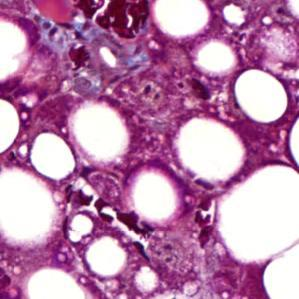steatosis: (172, 118, 245, 184), (233, 68, 287, 124), (30, 127, 74, 184)
